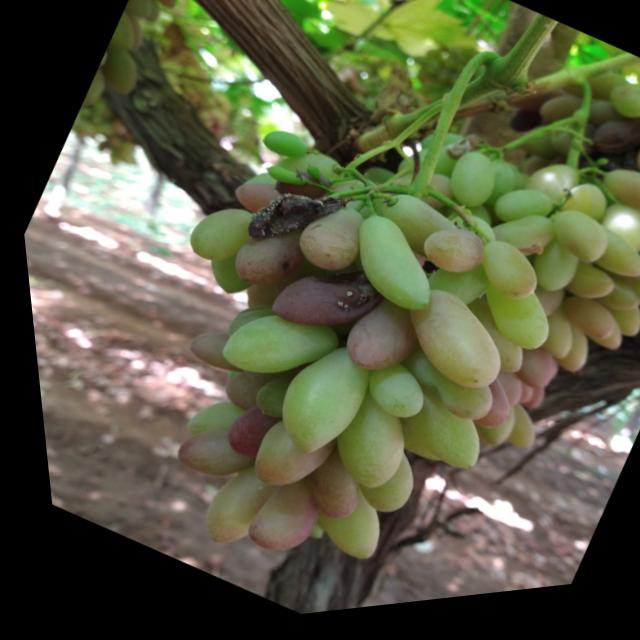grapes: (378, 283, 518, 417), (250, 335, 379, 478), (205, 291, 338, 413), (323, 210, 451, 332), (260, 244, 386, 365), (306, 384, 420, 507), (380, 385, 489, 490), (454, 268, 561, 372), (287, 476, 388, 578), (226, 470, 324, 574), (227, 412, 325, 513), (385, 355, 493, 446), (327, 295, 424, 396), (180, 456, 272, 560), (360, 189, 463, 281), (217, 213, 313, 311), (157, 413, 256, 503), (279, 196, 372, 291), (406, 248, 498, 336), (172, 193, 260, 281), (283, 453, 366, 538), (458, 241, 543, 322), (340, 443, 418, 529), (175, 318, 262, 394), (347, 359, 427, 437), (473, 206, 554, 283), (406, 221, 487, 296), (261, 139, 343, 212), (534, 212, 612, 286), (203, 397, 276, 473), (431, 152, 503, 228), (377, 163, 455, 233), (513, 240, 583, 315), (171, 388, 243, 459), (452, 325, 527, 393), (482, 184, 554, 252), (513, 160, 582, 229), (387, 139, 456, 205), (544, 299, 614, 361), (577, 237, 640, 304), (589, 168, 640, 250), (87, 42, 148, 104), (481, 408, 541, 470), (193, 249, 256, 308), (456, 385, 513, 448), (208, 365, 269, 422), (587, 209, 640, 274), (551, 187, 611, 244), (465, 164, 521, 224), (222, 175, 282, 230), (215, 298, 273, 354), (581, 282, 640, 337), (460, 402, 515, 461), (524, 317, 578, 376), (556, 271, 614, 325), (583, 122, 639, 176), (501, 354, 555, 408), (540, 335, 591, 392), (531, 95, 584, 149), (104, 3, 153, 59), (588, 306, 640, 357), (514, 285, 563, 336), (412, 129, 461, 175), (599, 89, 640, 142), (575, 324, 621, 368), (477, 377, 522, 421), (613, 267, 640, 337), (114, 16, 153, 58), (76, 69, 111, 114), (497, 384, 531, 418), (121, 0, 162, 27), (624, 138, 640, 202), (509, 394, 538, 425), (134, 0, 163, 30), (630, 236, 640, 300)
